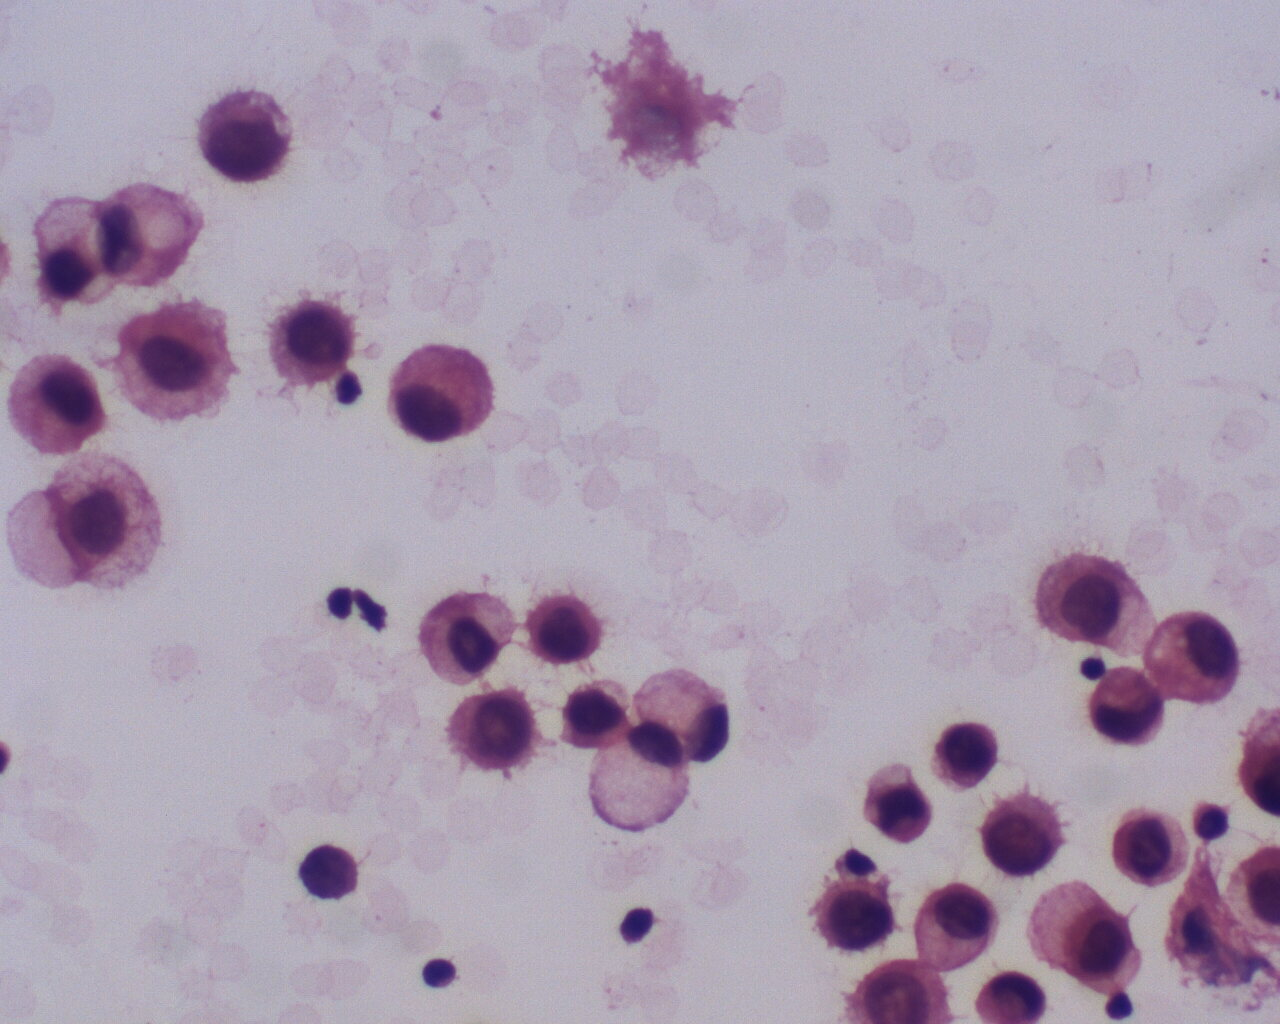ab: (9, 453, 172, 603), (1034, 542, 1154, 664), (190, 84, 299, 192), (448, 686, 553, 776), (265, 299, 360, 397), (980, 789, 1070, 881), (806, 870, 898, 959), (519, 588, 609, 673), (1112, 800, 1190, 889), (933, 720, 1006, 791)
histo: (586, 715, 697, 839)
meso: (386, 339, 501, 453), (1142, 595, 1243, 709), (4, 348, 106, 456), (908, 877, 1009, 974)
